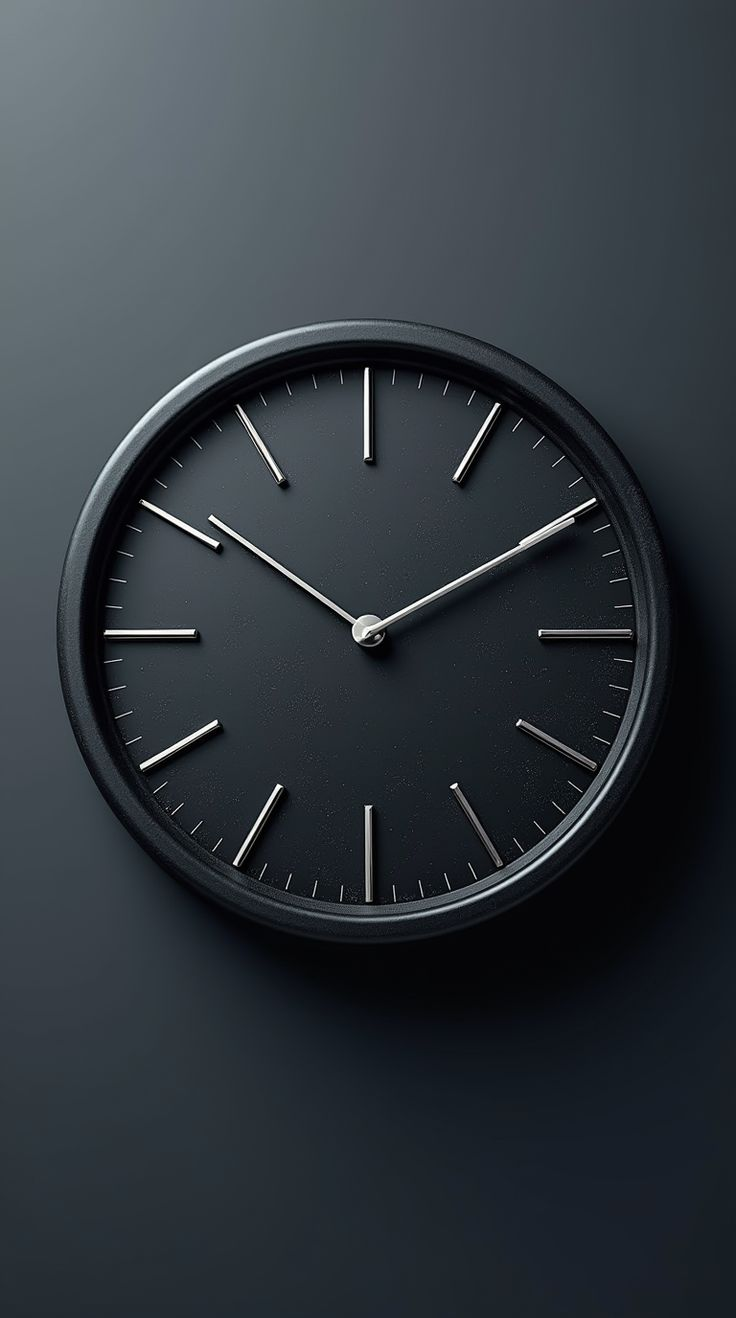clock: (35, 270, 704, 975)
